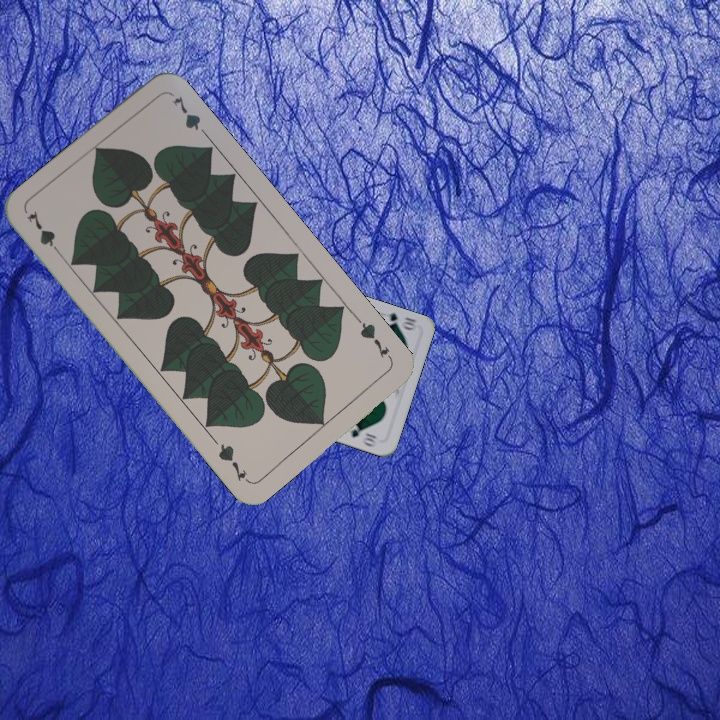G10: (378, 309, 420, 333)
G7: (23, 206, 65, 260), (353, 314, 396, 364)
